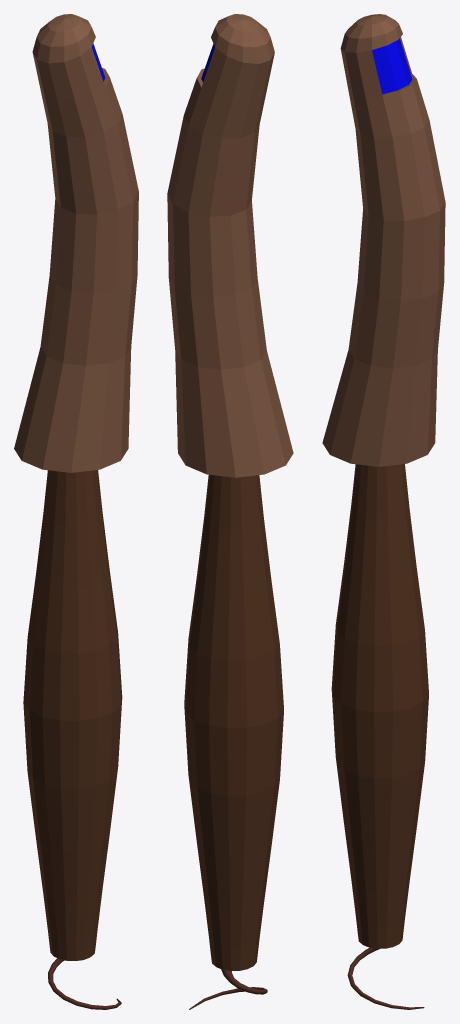
Rendered from Wand 149.glb.
3 views of the same model, side by side, from view 1: azimuth 30°, elevation 25°; view 2: azimuth 150°, elevation 25°; view 3: azimuth 330°, elevation 25° (orthographic). The views are drawn at different scales.
Visible parts, largest first — view 1: GeneratedWand; view 2: GeneratedWand; view 3: GeneratedWand.
Boxes of the visible parts, box(x1,y1,x2,y2) form: GeneratedWand: box(14, 14, 138, 1009); GeneratedWand: box(167, 14, 293, 1009); GeneratedWand: box(322, 14, 445, 1009).
Bounding box in the file's own units: 0.0644 × 0.547 × 0.0572.
